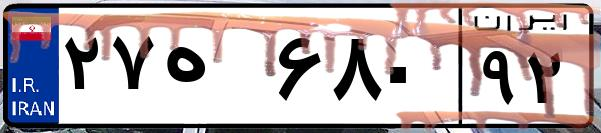0: (385, 28, 445, 110)
2: (57, 26, 110, 100), (525, 38, 570, 115)
6: (270, 28, 330, 110)
7: (110, 28, 158, 98)
8: (330, 28, 385, 110)
9: (475, 38, 525, 113)
ه: (158, 20, 270, 120)
